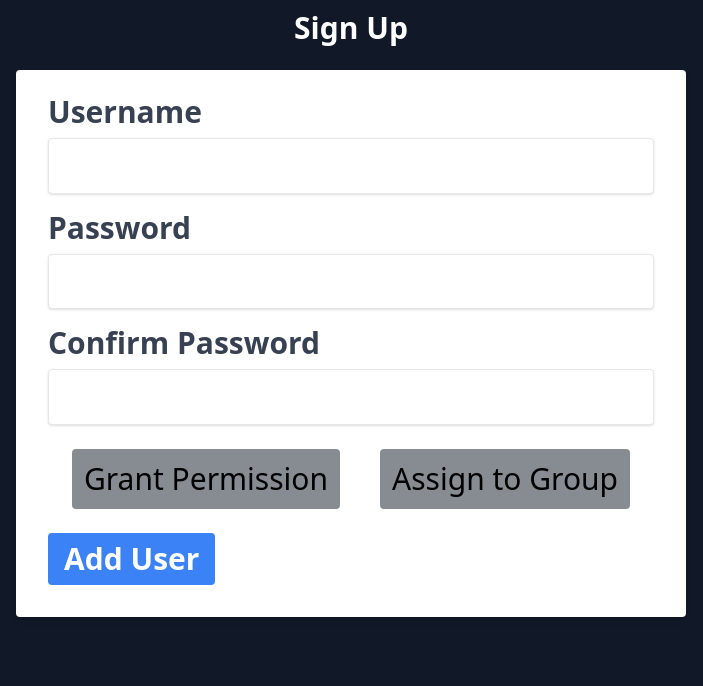
Test: AddUser Component Suite › shows success message on successful submission
This screenshot has width=703, height=686.
Fill out form
In the field labelled "Username": (351, 166) [48, 138, 654, 194], type "TestUser"
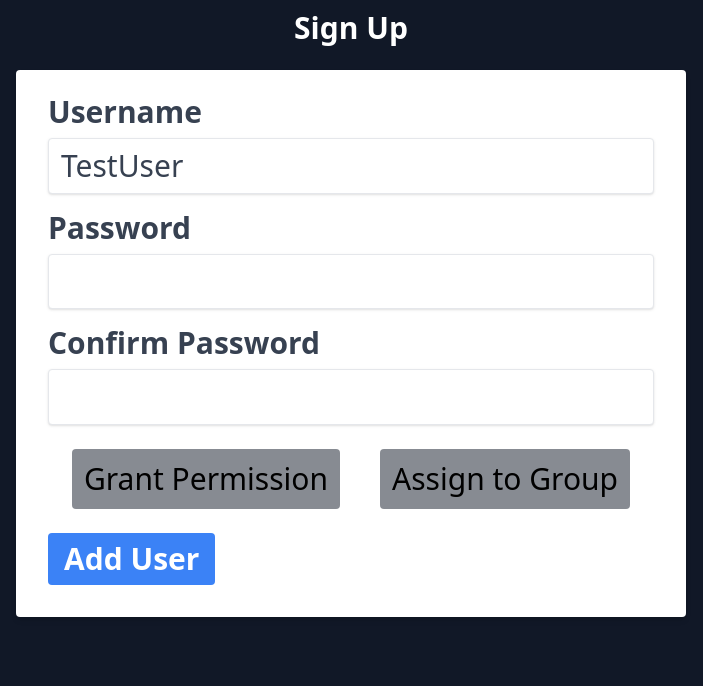
In the password field labelled "Password": (351, 281) [48, 254, 654, 309], type "TestPassword"
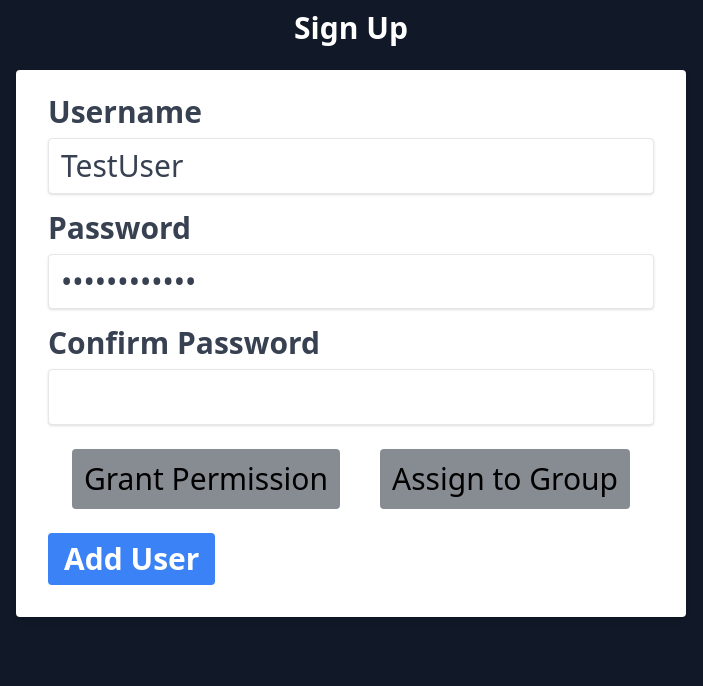
In the password field labelled "Confirm Password": (351, 397) [48, 369, 654, 424], type "TestPassword"
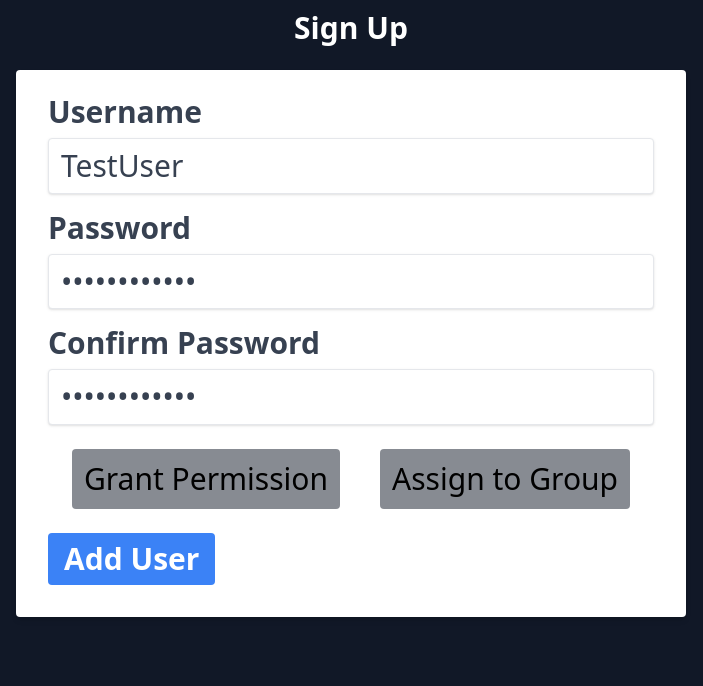
Click the button "Add User": (132, 558) [48, 532, 215, 584]
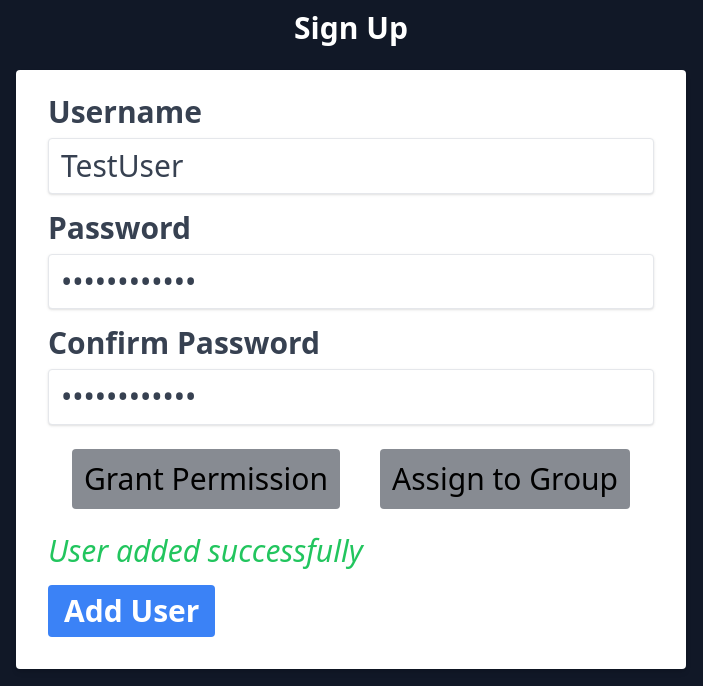
Check: the text "User added successfully" is shown, box [48, 530, 363, 570]
